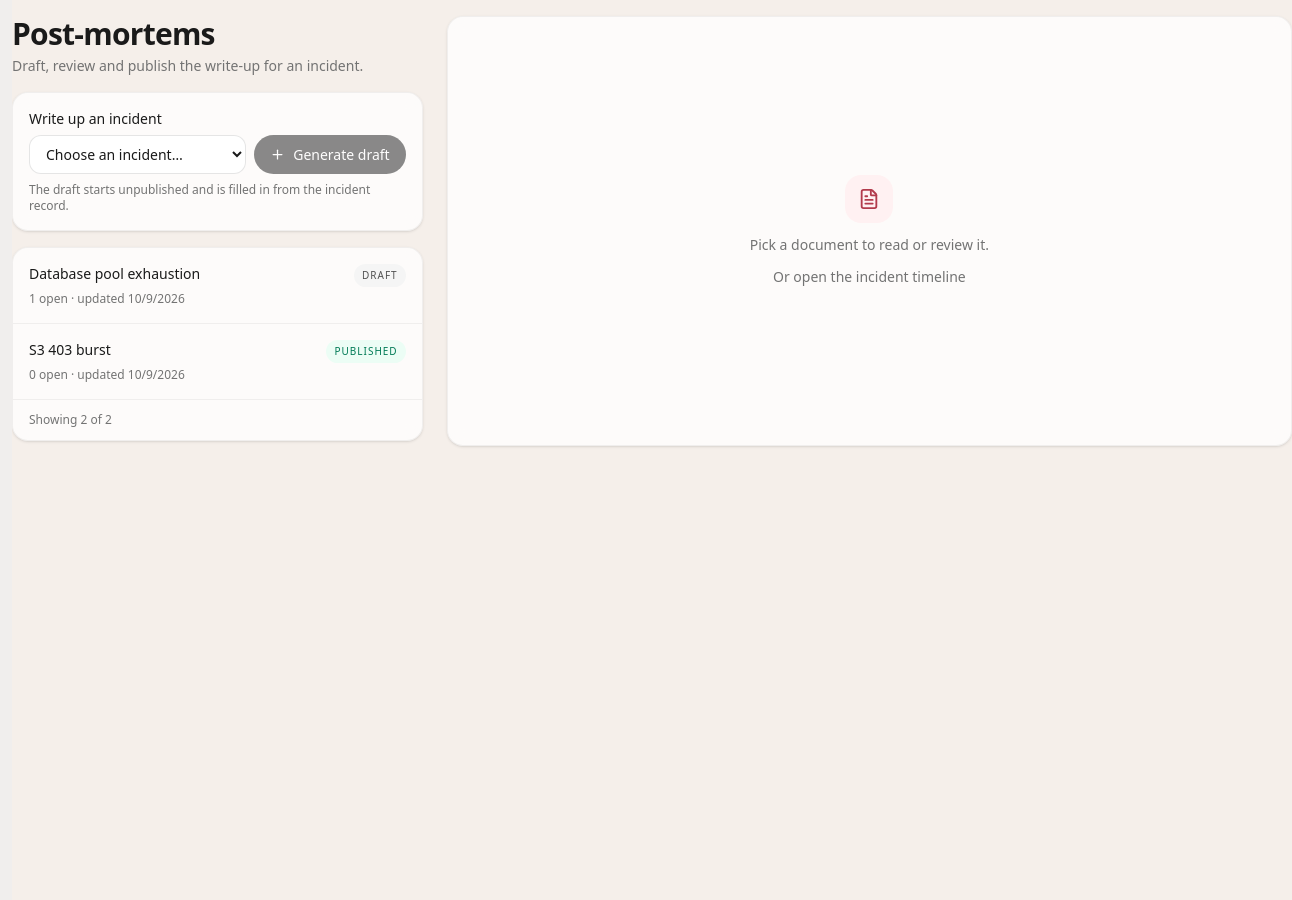
Test: generates a draft from the incident that was chosen
Select "7 · Checkout latency spike" in the dropdown labelled "Write up an incident": (138,154) [29,135,246,174]
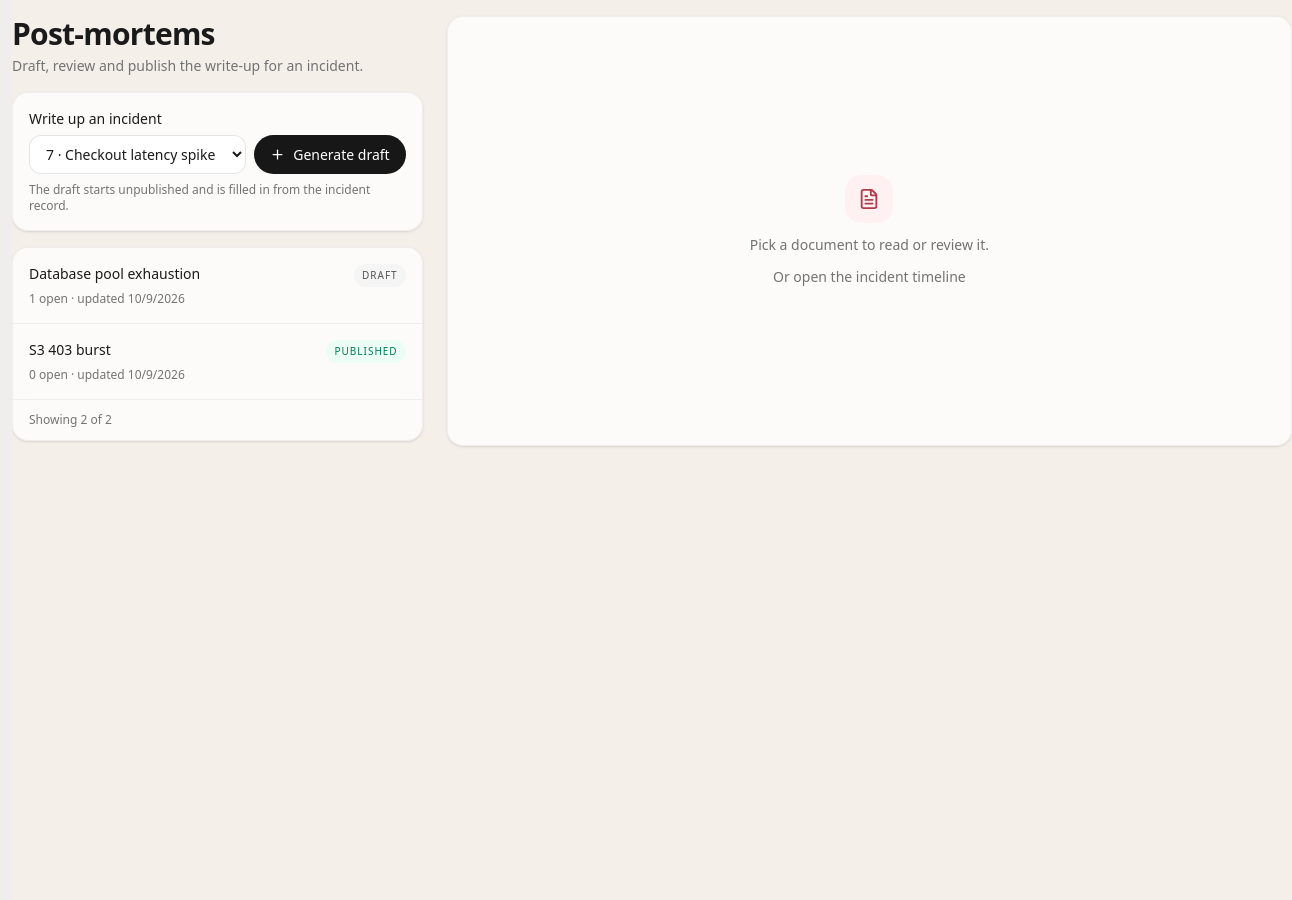
Click the button "Generate draft": (330,154) [254,135,406,174]
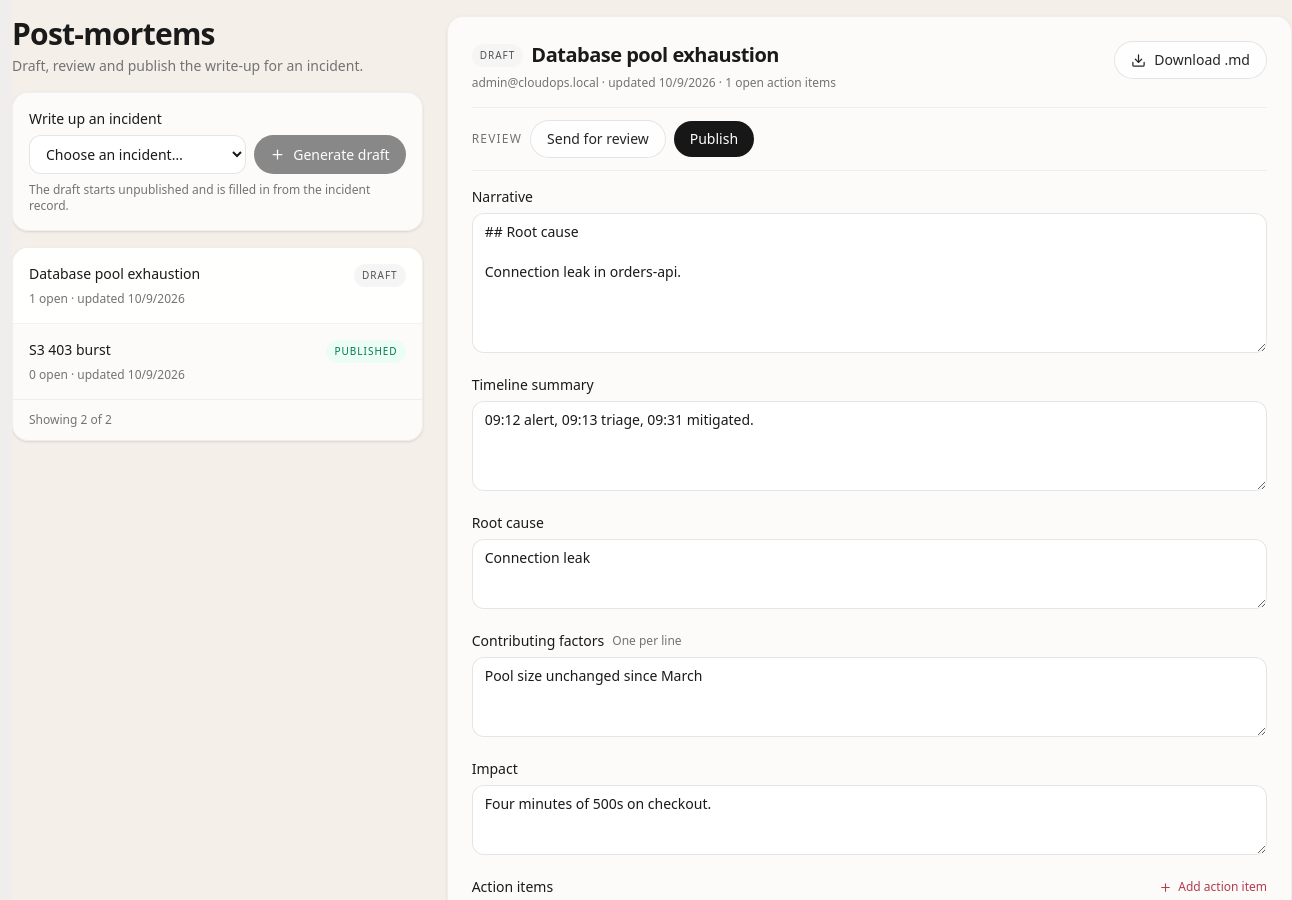
Expected: the text box labelled "Root cause" holds "Connection leak", [472,539,1267,609]
